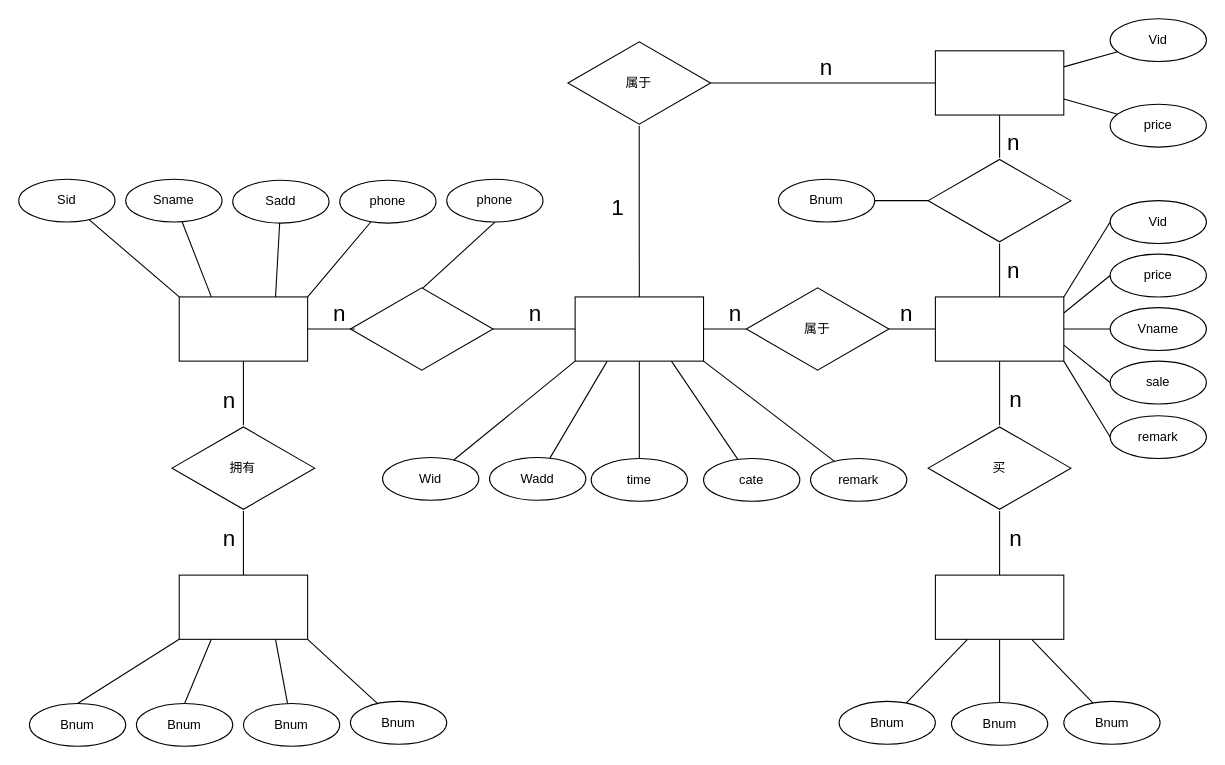
Image size: 1225x765. Some labels were removed from this diagram. The shapes that lost their labels are listed below. From the top down, each one's box as (x1, y1, x2, y2) in pixels, then its label:
(934, 50, 1064, 115): 厨师
(927, 157, 1071, 243): 被做
(178, 296, 308, 361): 供应商
(349, 285, 493, 372): 进货
(574, 296, 704, 361): 窗口
(934, 296, 1064, 361): 菜品
(178, 574, 308, 639): 原材料
(934, 574, 1064, 639): 消费者
